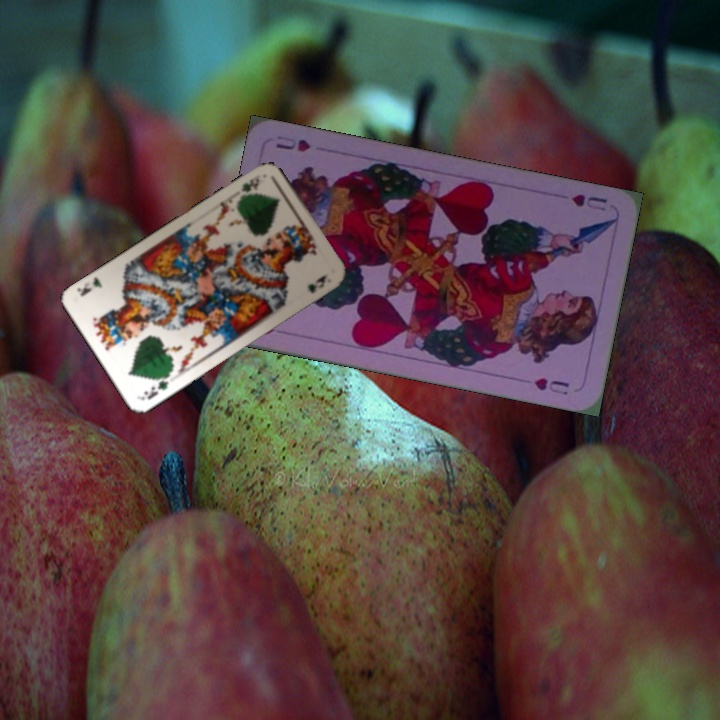GK: (139, 370, 173, 402), (236, 170, 263, 202)
HU: (567, 190, 610, 214)
